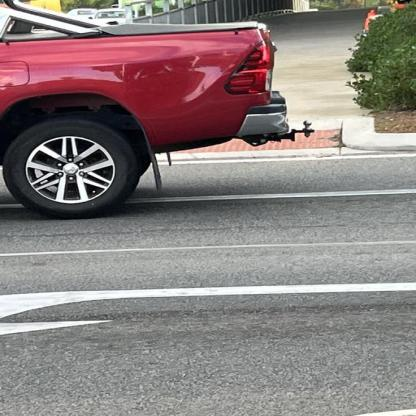Tire: (2, 118, 138, 219)
